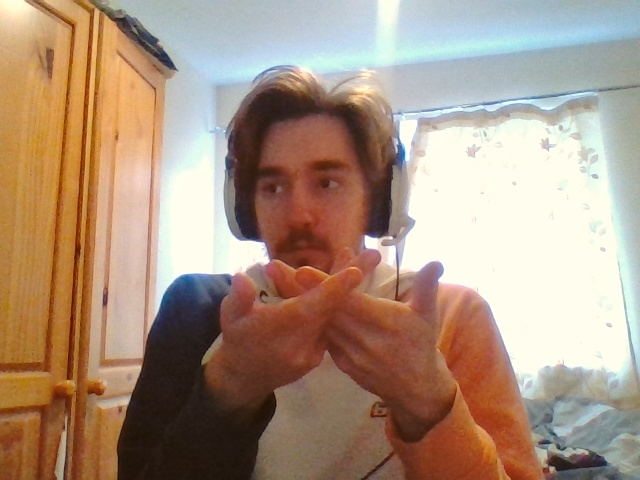how: (210, 248, 444, 397)
